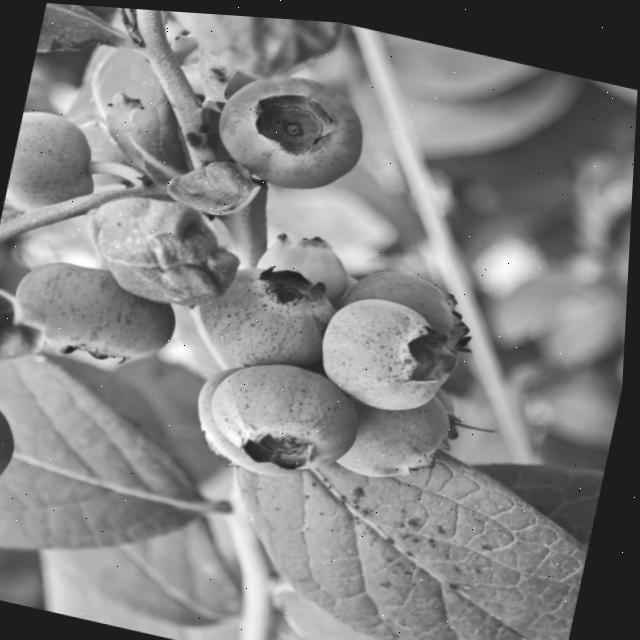RipeBlueBerry: (206, 53, 379, 200), (202, 342, 377, 482), (5, 246, 192, 376), (192, 246, 347, 375)
Semi-RipeBlueBerry: (311, 279, 475, 419), (335, 369, 465, 488), (4, 104, 107, 230)
